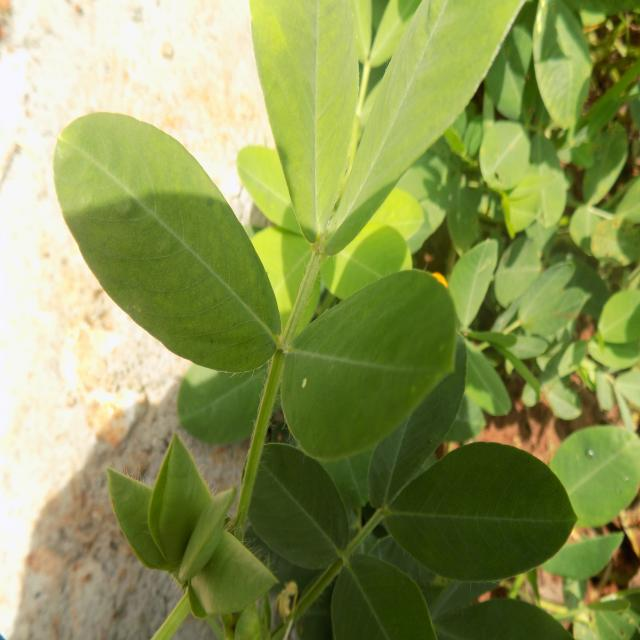Ground nut_healthy: (56, 108, 278, 372), (279, 274, 467, 455), (376, 441, 574, 579), (235, 441, 343, 567)
